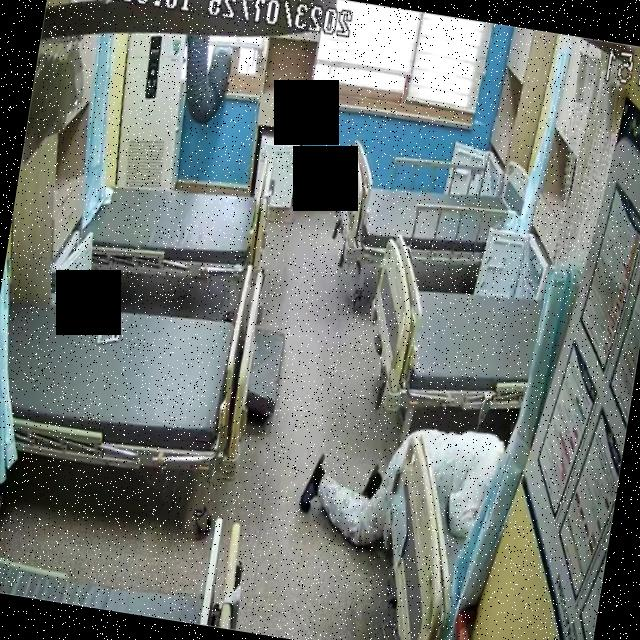bed: (0, 278, 242, 486), (352, 232, 550, 434), (329, 136, 532, 284), (76, 146, 274, 294)
fall: (290, 399, 502, 572)
patient: (290, 401, 502, 571)
